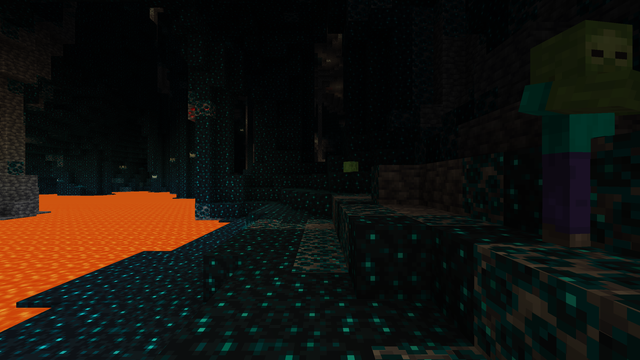slimes: (344, 161, 355, 172)
zombies: (521, 24, 628, 251)
